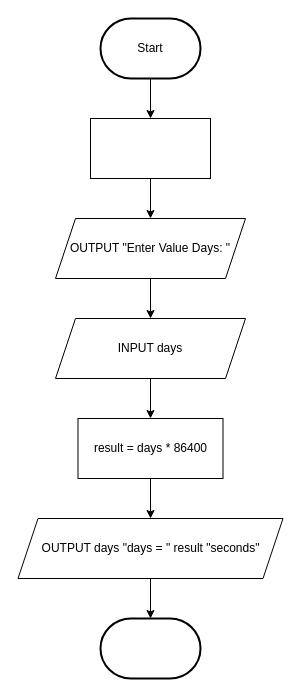
This 300x696 diagram has some shape labels left out. Each missing label, with the centre of its shape:
days = 0: (x=150, y=148)
Stop: (x=150, y=648)
